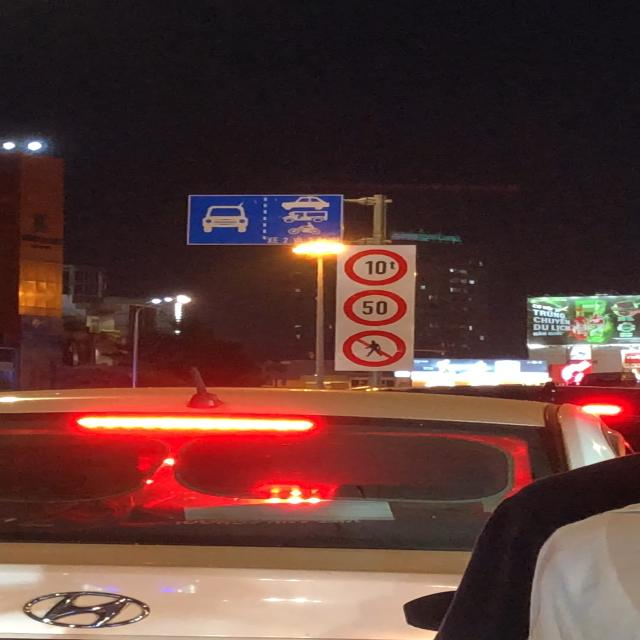Bien bao cam nguoi di bo: (340, 329, 409, 369)
Bien bao toc do toi da cho phep: (344, 289, 410, 326)
